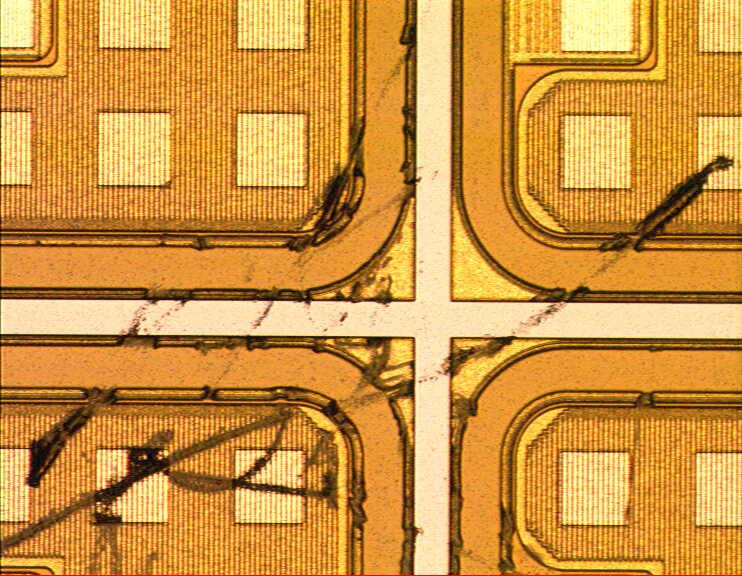SCRATCH: (1, 1, 738, 576)
